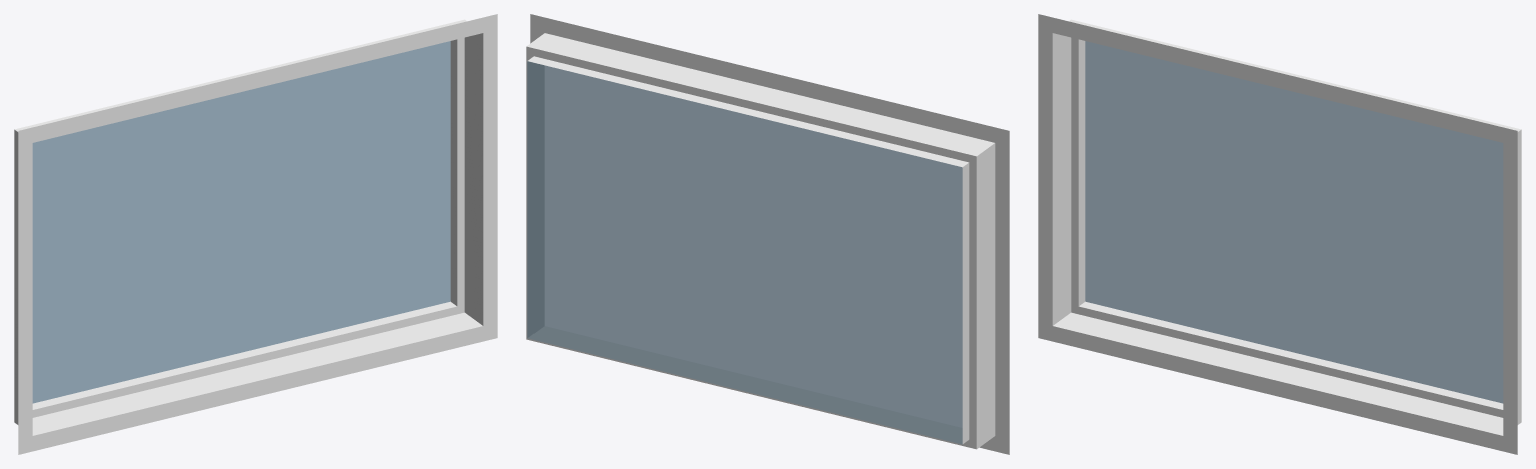
The model's file is p3-window-stairs-horizontal-roof.fbx.
3 renders of one model, left to right at view 1: azimuth 30°, elevation 25°; view 2: azimuth 150°, elevation 25°; view 3: azimuth 330°, elevation 25°, orthographic.
Parts seen in each view (by area): view 1: p3-window-stairs-horizontal-roof; view 2: p3-window-stairs-horizontal-roof; view 3: p3-window-stairs-horizontal-roof.
Boxes of the visible parts, <box> form: p3-window-stairs-horizontal-roof: <box>14,14,497,454</box>; p3-window-stairs-horizontal-roof: <box>526,14,1009,454</box>; p3-window-stairs-horizontal-roof: <box>1038,14,1521,454</box>.
Bounding box in the file's own units: 141 × 91.02 × 12.75.
